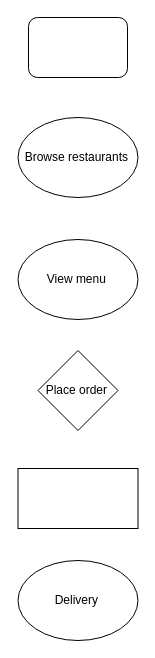
This 155x658 diagram has some shape labels left out. Each missing label, with the centre of its shape:
Download And sign up: [78,47]
Order tracking: [77,498]
